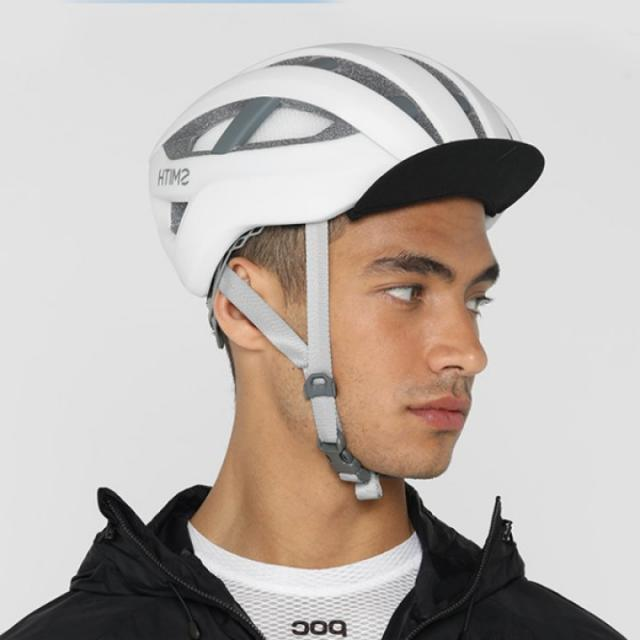Helmet: (145, 38, 546, 500)
